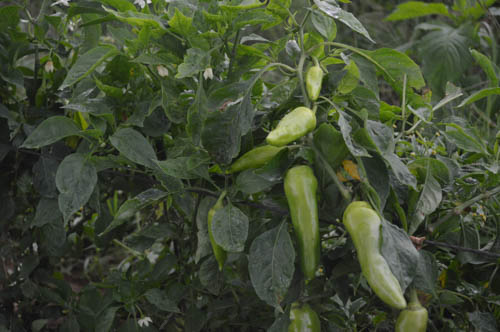ChiliPepper: (339, 204, 399, 311), (286, 166, 321, 278), (269, 107, 318, 143), (226, 146, 277, 177), (202, 205, 224, 266), (281, 306, 319, 332), (392, 307, 427, 331), (305, 65, 324, 100)
